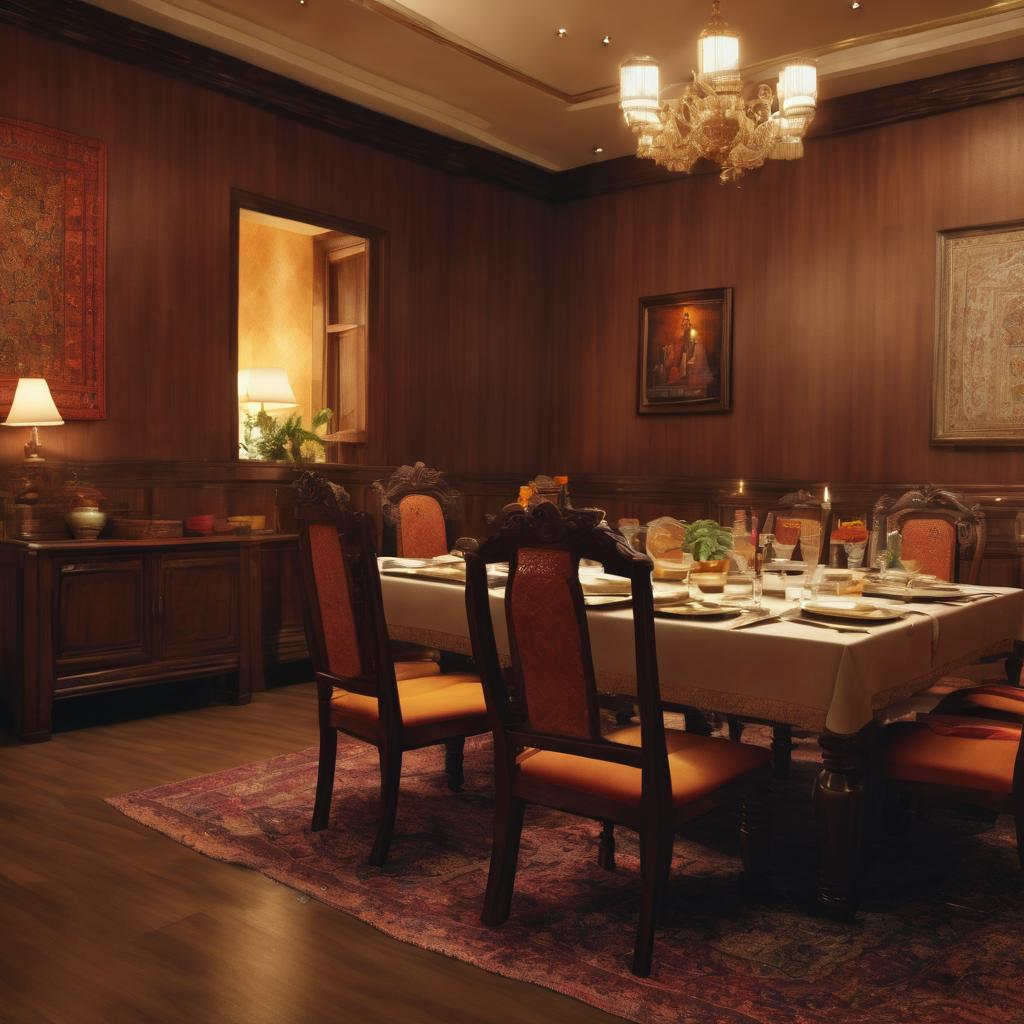chair: (468, 505, 782, 990), (288, 460, 512, 852), (868, 490, 985, 845), (715, 490, 820, 805)
light: (595, 22, 835, 185), (0, 368, 72, 478), (238, 360, 302, 475)
table: (355, 545, 1015, 870), (0, 515, 280, 715)
